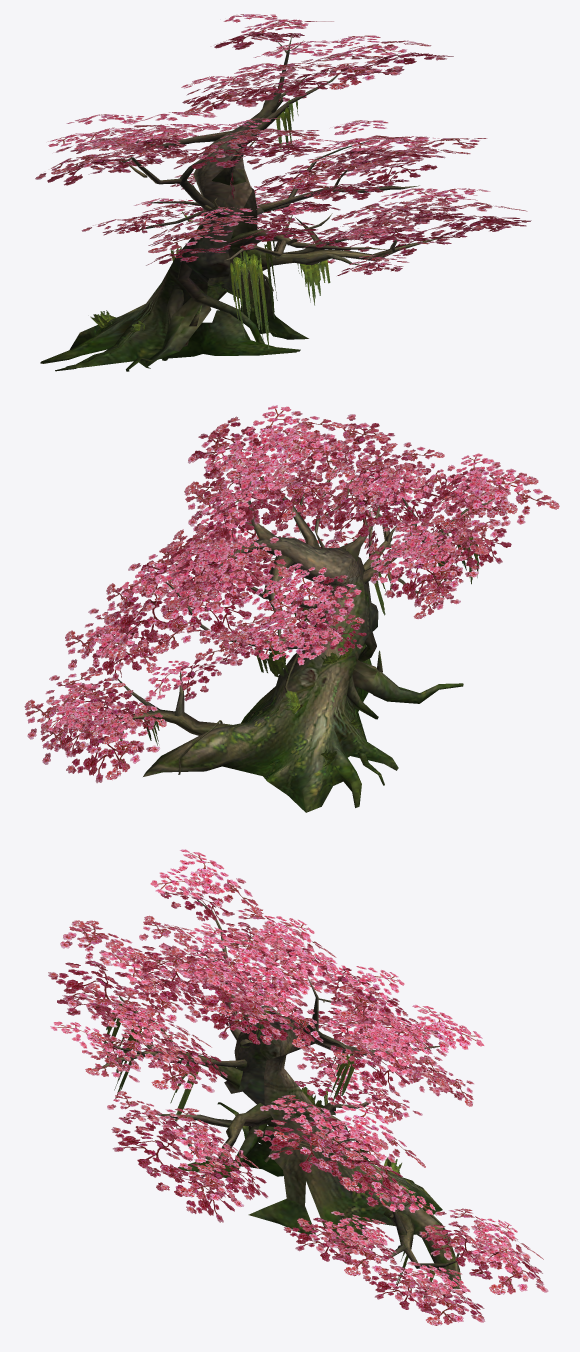
Rendered from S_Tree_Green133_H2.FBX.
3 renders of one model, top to bottom at view 1: azimuth 30°, elevation 25°; view 2: azimuth 150°, elevation 25°; view 3: azimuth 270°, elevation 25°, orthographic. The views are drawn at different scales.
Parts seen in each view (by area): view 1: S_Tree_Green133_H2_2, S_Tree_Green133_H2_1, S_Tree_Green133_H2_3; view 2: S_Tree_Green133_H2_2, S_Tree_Green133_H2_1, S_Tree_Green133_H2_3; view 3: S_Tree_Green133_H2_2, S_Tree_Green133_H2_1, S_Tree_Green133_H2_3.
Boxes of the visible parts, x1,y1,x2,y2 form: S_Tree_Green133_H2_2: (35, 14, 531, 275); S_Tree_Green133_H2_1: (40, 35, 446, 371); S_Tree_Green133_H2_3: (90, 100, 330, 348); S_Tree_Green133_H2_2: (24, 405, 559, 783); S_Tree_Green133_H2_1: (113, 458, 494, 812); S_Tree_Green133_H2_3: (120, 529, 479, 766); S_Tree_Green133_H2_2: (48, 849, 548, 1325); S_Tree_Green133_H2_1: (92, 891, 465, 1288); S_Tree_Green133_H2_3: (102, 1003, 435, 1298).
Bounding box in the file's own units: 1293 × 886 × 1370.
Materials: 3 (3 with a texture image).
